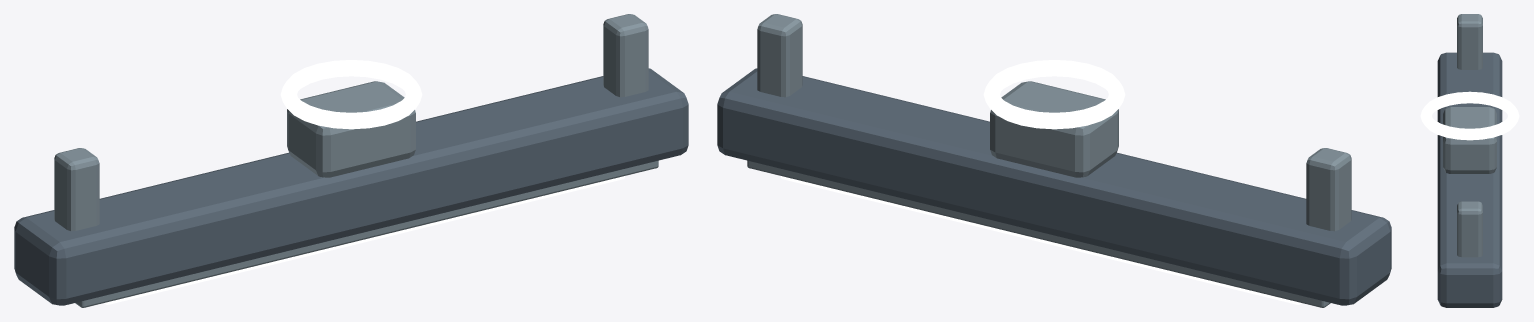
File: overhead-light.glb
3 views of the same model, side by side, from view 1: azimuth 30°, elevation 25°; view 2: azimuth 150°, elevation 25°; view 3: azimuth 270°, elevation 25° (orthographic). The views are drawn at different scales.
Visible parts, largest first — view 1: Visual_OverheadLight_Housing, Visual_Merged_ZA_OverheadLight_Root_Neutral_Steel, Visual_Merged_ZA_OverheadLight_Root_Light_Emitter; view 2: Visual_OverheadLight_Housing, Visual_Merged_ZA_OverheadLight_Root_Neutral_Steel, Visual_Merged_ZA_OverheadLight_Root_Light_Emitter; view 3: Visual_OverheadLight_Housing, Visual_Merged_ZA_OverheadLight_Root_Neutral_Steel, Visual_Merged_ZA_OverheadLight_Root_Light_Emitter.
Boxes of the visible parts, x1,y1,x2,y2 form: Visual_OverheadLight_Housing: (14,68,688,305); Visual_Merged_ZA_OverheadLight_Root_Neutral_Steel: (54,14,658,307); Visual_Merged_ZA_OverheadLight_Root_Light_Emitter: (104,60,624,304); Visual_OverheadLight_Housing: (717,68,1391,305); Visual_Merged_ZA_OverheadLight_Root_Neutral_Steel: (747,14,1351,307); Visual_Merged_ZA_OverheadLight_Root_Light_Emitter: (781,60,1301,304); Visual_OverheadLight_Housing: (1437,52,1502,307); Visual_Merged_ZA_OverheadLight_Root_Neutral_Steel: (1443,14,1496,257); Visual_Merged_ZA_OverheadLight_Root_Light_Emitter: (1420,91,1519,140).
Bounding box in the file's own units: 4 × 0.8625 × 0.77.
